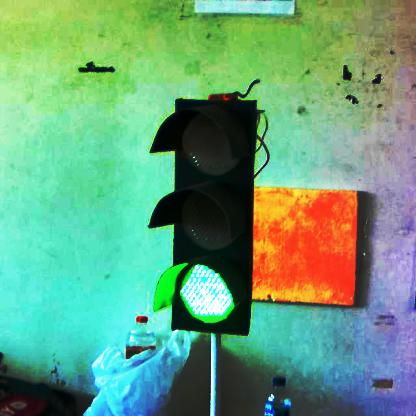Traffic Light -Green-: (149, 100, 252, 336)
